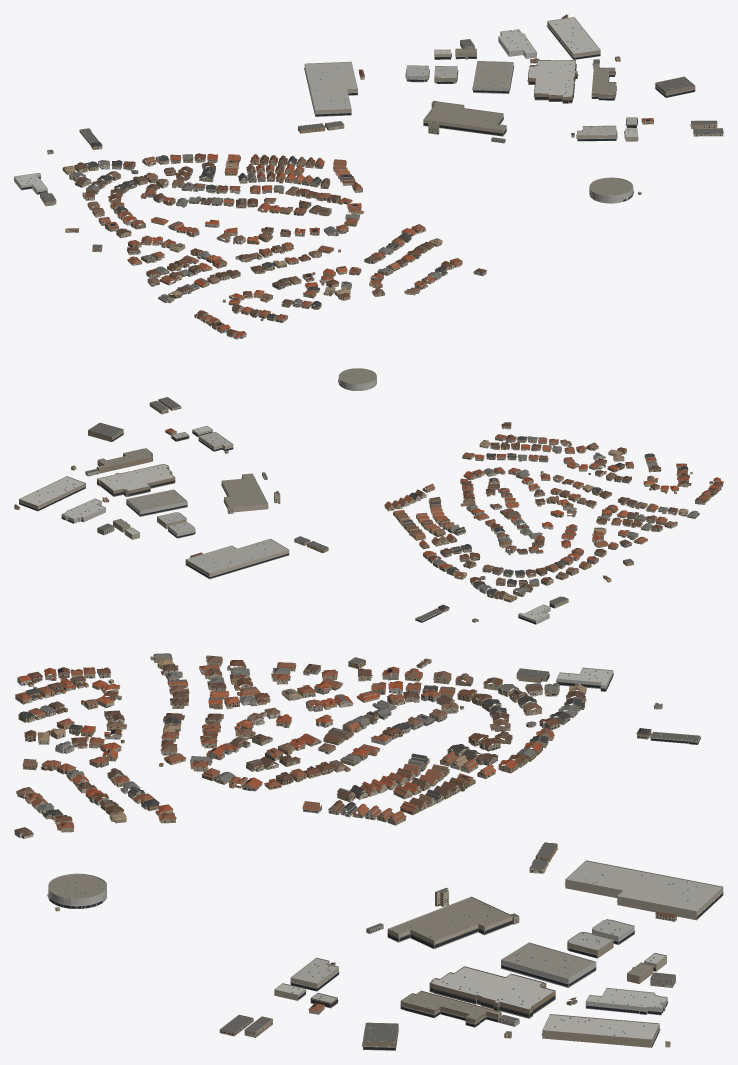
3 renders of one model, top to bottom at view 1: azimuth 30°, elevation 25°; view 2: azimuth 150°, elevation 25°; view 3: azimuth 270°, elevation 25°, orthographic. The views are drawn at different scales.
Parts seen in each view (by area): view 1: buildings_r4_c5_lod0; view 2: buildings_r4_c5_lod0; view 3: buildings_r4_c5_lod0.
Part boxes in pixels (x1=…): buildings_r4_c5_lod0: x1=14, y1=14, x2=723, y2=339; buildings_r4_c5_lod0: x1=14, y1=368, x2=723, y2=624; buildings_r4_c5_lod0: x1=14, y1=653, x2=723, y2=1050.
Size of the model in its own units: 1148 by 74.51 by 852.
